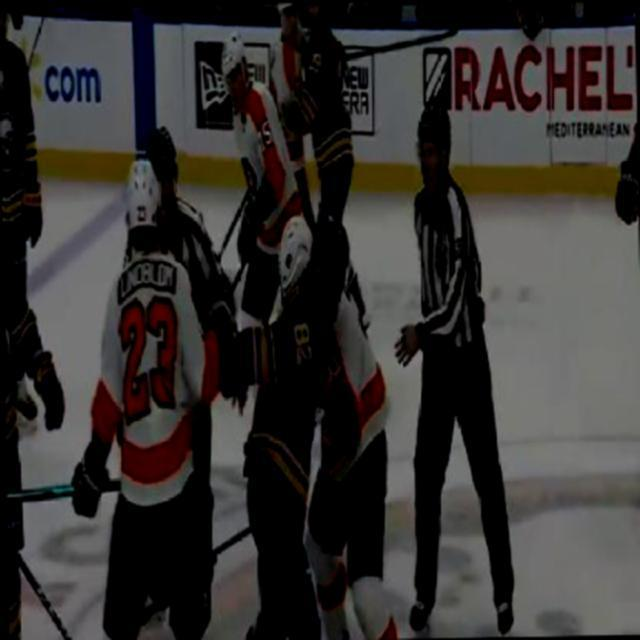fight: (222, 207, 396, 638)
non-fight: (70, 146, 232, 639), (399, 101, 516, 637)
